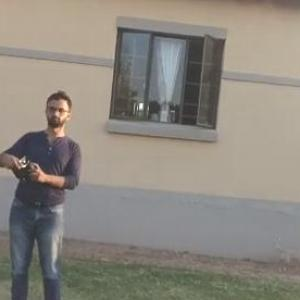follow: (0, 85, 88, 299)
null: (266, 235, 299, 277)
